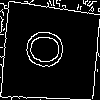O: (25, 28, 73, 71)
